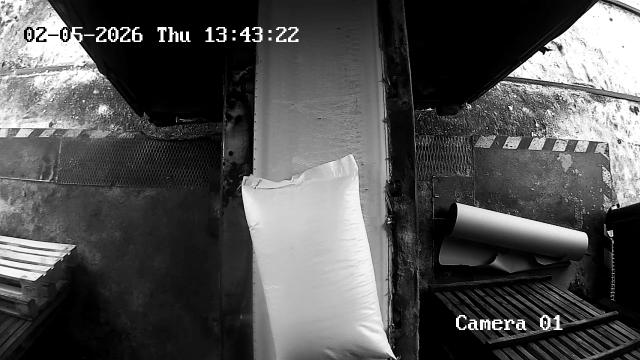bag: (242, 154, 396, 360)
